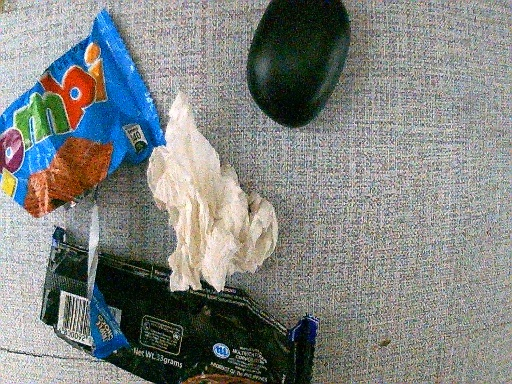paper: (148, 95, 284, 292)
plastic: (22, 228, 342, 384), (1, 14, 160, 215)
trash: (239, 1, 355, 137)
